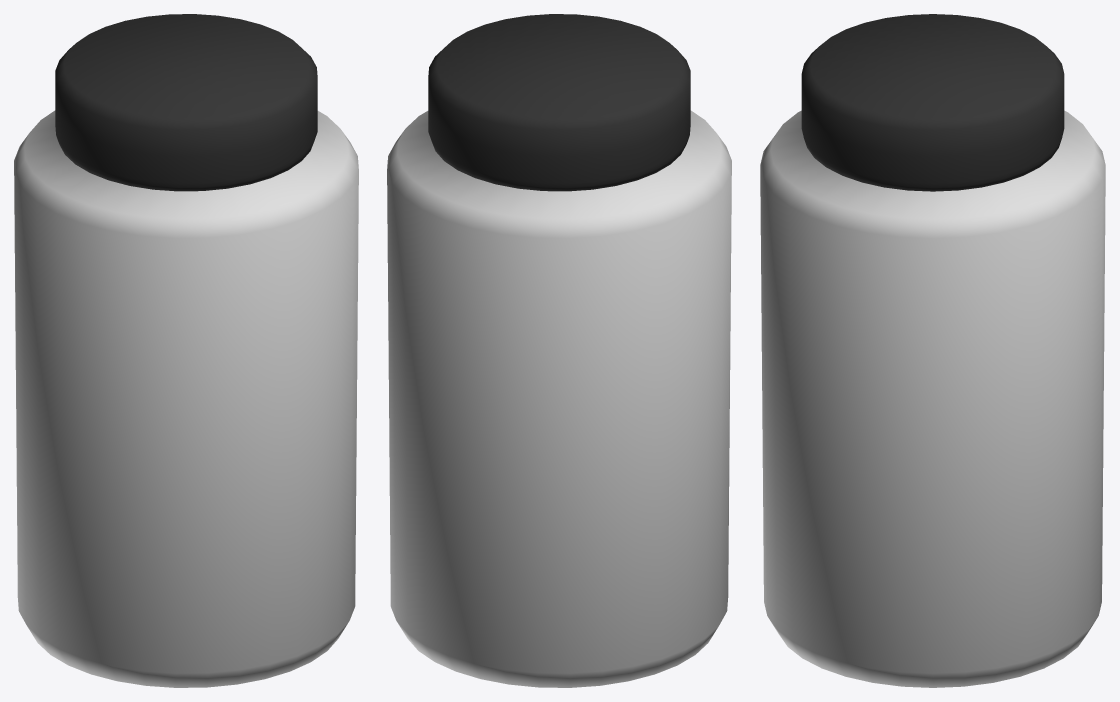
File: santan fix.fbx
3 views of the same model, side by side, from view 1: azimuth 30°, elevation 25°; view 2: azimuth 150°, elevation 25°; view 3: azimuth 270°, elevation 25° (orthographic).
Parts seen in each view (by area): view 1: Cylinder, Cylinder.002; view 2: Cylinder, Cylinder.002; view 3: Cylinder, Cylinder.002.
Boxes of the visible parts, left/top/right/bottom form: Cylinder: left=14, top=110, right=358, bottom=687; Cylinder.002: left=55, top=14, right=317, bottom=191; Cylinder: left=387, top=110, right=731, bottom=687; Cylinder.002: left=428, top=14, right=690, bottom=191; Cylinder: left=760, top=110, right=1105, bottom=687; Cylinder.002: left=801, top=14, right=1064, bottom=191.
Size of the model in its own units: 13.35 by 23.69 by 13.35.
